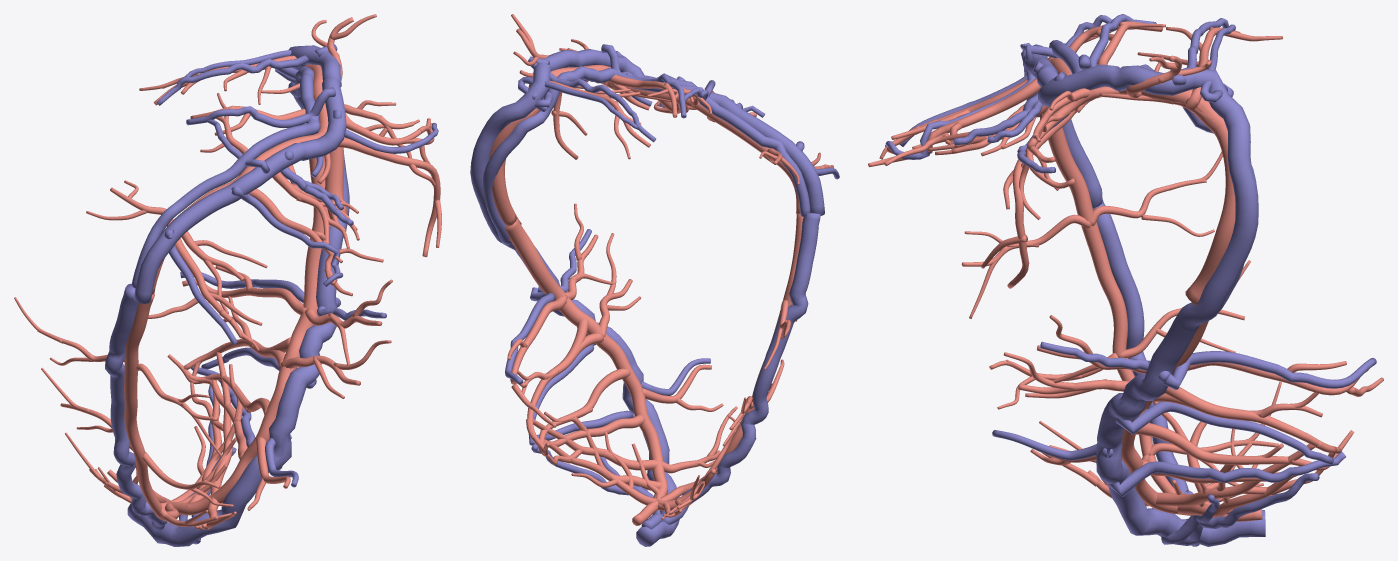
File: vessels_22.glb
3 views of the same model, side by side, from view 1: azimuth 30°, elevation 25°; view 2: azimuth 150°, elevation 25°; view 3: azimuth 270°, elevation 25° (orthographic). The views are drawn at different scales.
Visible parts, largest first — view 1: Renderer Node; view 2: Renderer Node; view 3: Renderer Node.
Part boxes in pixels (x1,y1,x2,y2): Renderer Node: (14, 14, 441, 546); Renderer Node: (470, 14, 839, 546); Renderer Node: (868, 14, 1383, 546).
Size of the model in its own units: 83.55 by 113 by 88.4.
